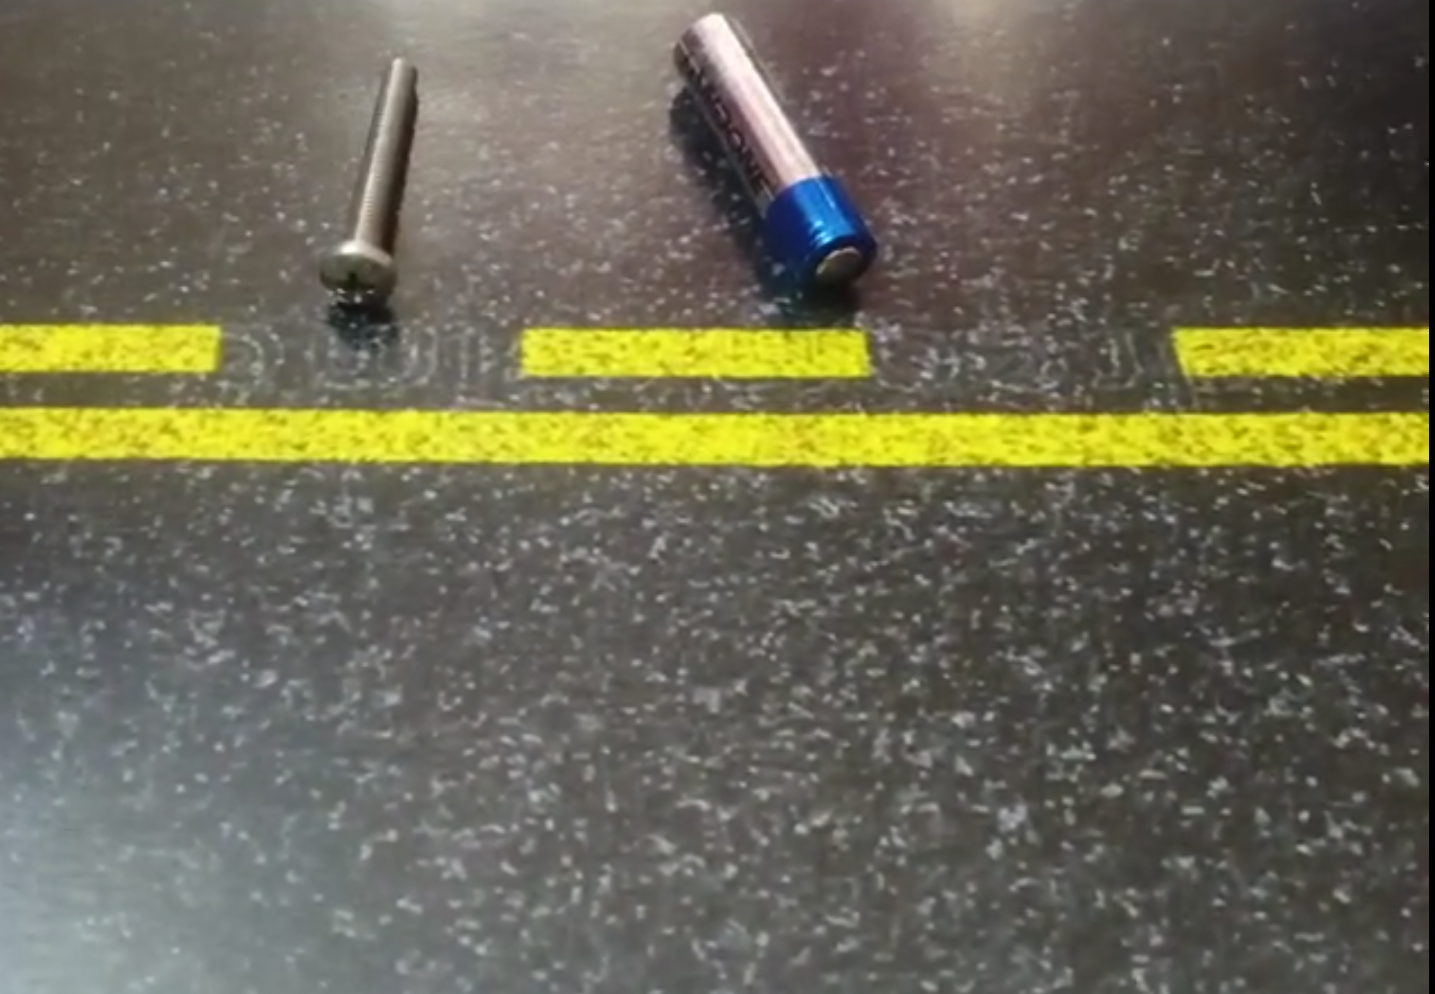metal: (667, 5, 891, 295), (319, 58, 423, 303)
